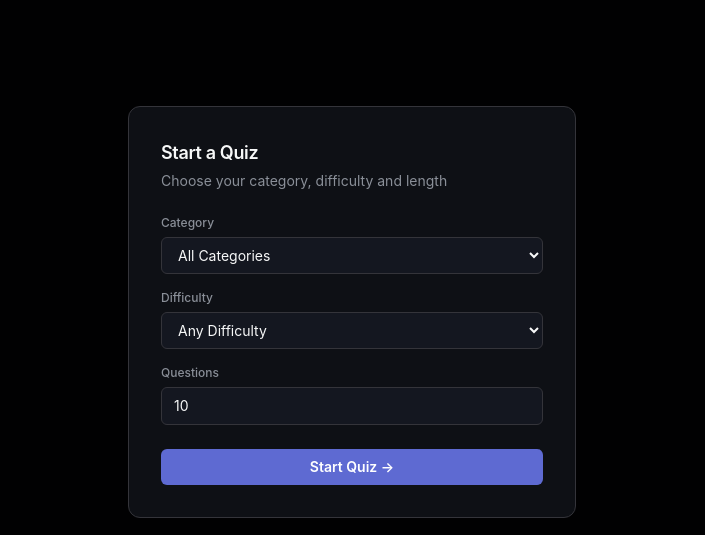
Test: Quiz › shows the first question after clicking Start
The image size is (705, 535).
Click the button "Start Quiz →".
click(352, 467)  # box [161,449,543,485]
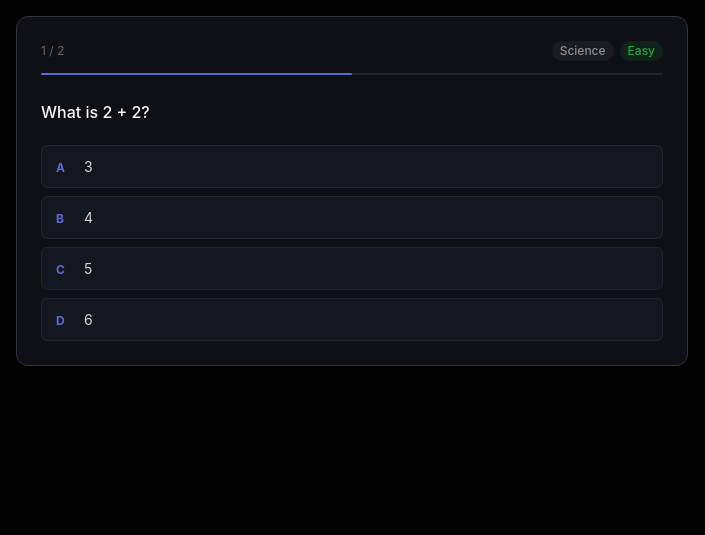
Expected: the text "What is 2 + 2?" is shown, [41,102,150,122]
Expected: the text "1 / 2" is shown, [41,43,64,59]
